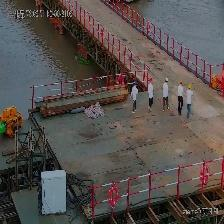Person: (131, 80, 141, 116), (161, 76, 170, 110), (147, 77, 155, 114), (177, 79, 184, 115), (186, 86, 193, 120)
helmet: (188, 83, 193, 92), (179, 77, 184, 85), (149, 78, 154, 85), (165, 78, 170, 84), (134, 80, 138, 87)
no-vest: (132, 86, 139, 103), (162, 84, 169, 99), (149, 83, 154, 101), (186, 91, 192, 106), (178, 86, 183, 99)
